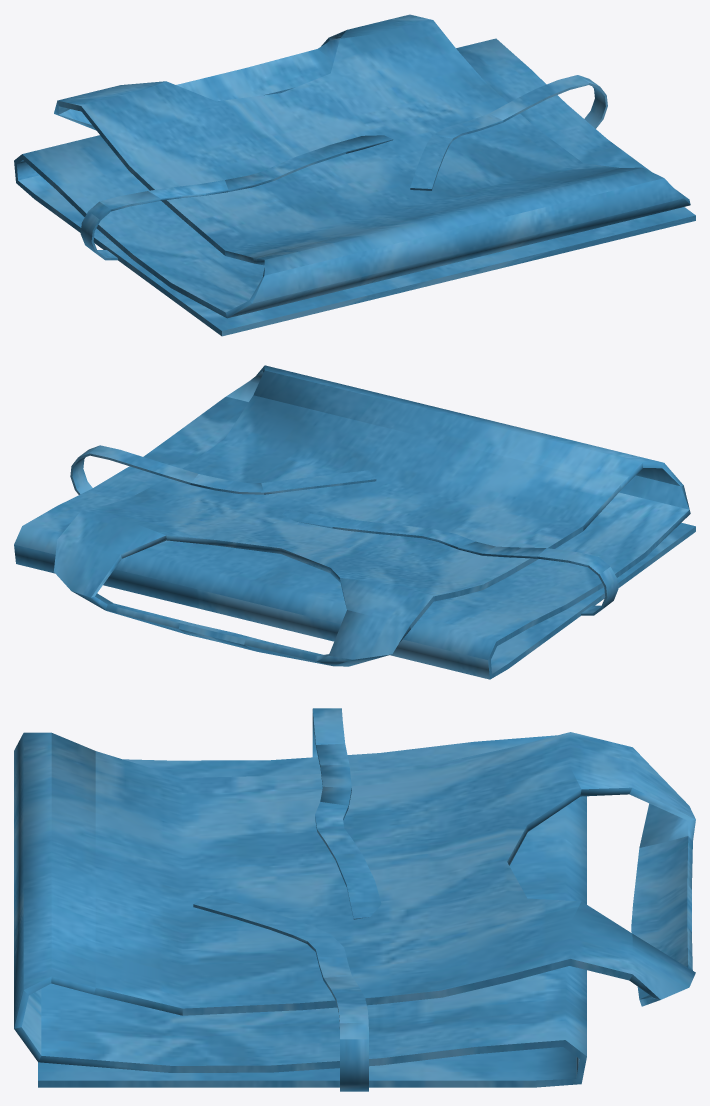
The model's file is APD_Apron_lipat(1).fbx.
3 views of the same model, one above another, from view 1: azimuth 30°, elevation 25°; view 2: azimuth 150°, elevation 25°; view 3: azimuth 270°, elevation 25° (orthographic). The views are drawn at different scales.
Parts seen in each view (by area): view 1: apd_apron_lipat; view 2: apd_apron_lipat; view 3: apd_apron_lipat.
Boxes of the visible parts, <box> form: apd_apron_lipat: <box>14,14,695,336</box>; apd_apron_lipat: <box>14,365,695,679</box>; apd_apron_lipat: <box>14,708,695,1091</box>.
Bounding box in the file's own units: 44.29 × 5.51 × 37.63.
Materials: 1 (1 with a texture image).
